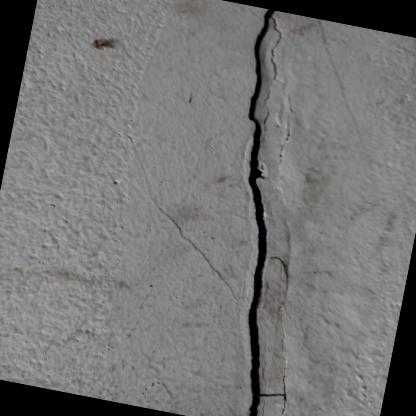crack: (247, 8, 276, 416)
